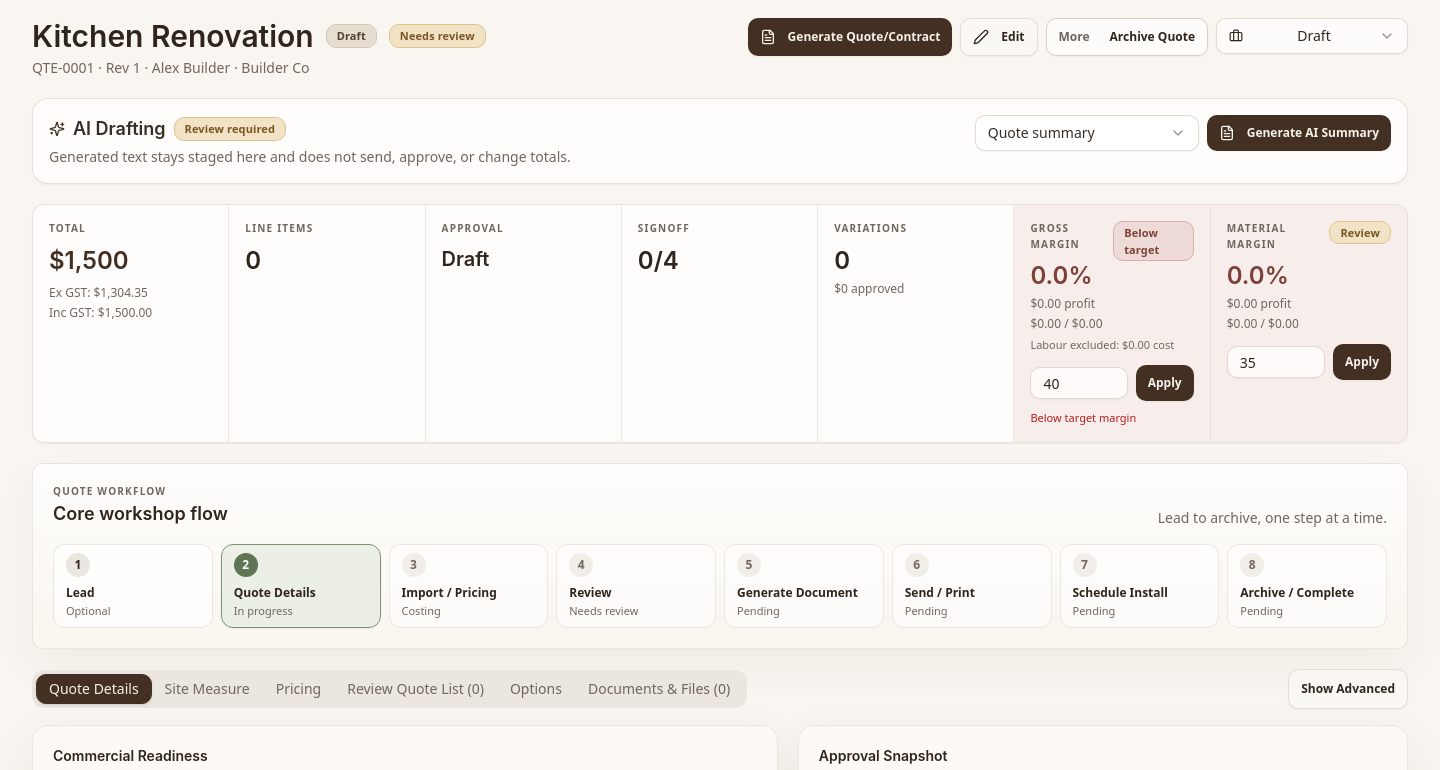
QuoteDetail › shows the complete guided quote workflow and jumps to the next work area
The image size is (1440, 770).
Expected: the heading "Kitchen Renovation" is shown, [32,18,314,54]
Expected: the heading "Core workshop flow" is shown, [53,500,228,528]
Click the button with aria-label "add pricing" at (468, 586), box [388,544,548,628]
(page scrolled)
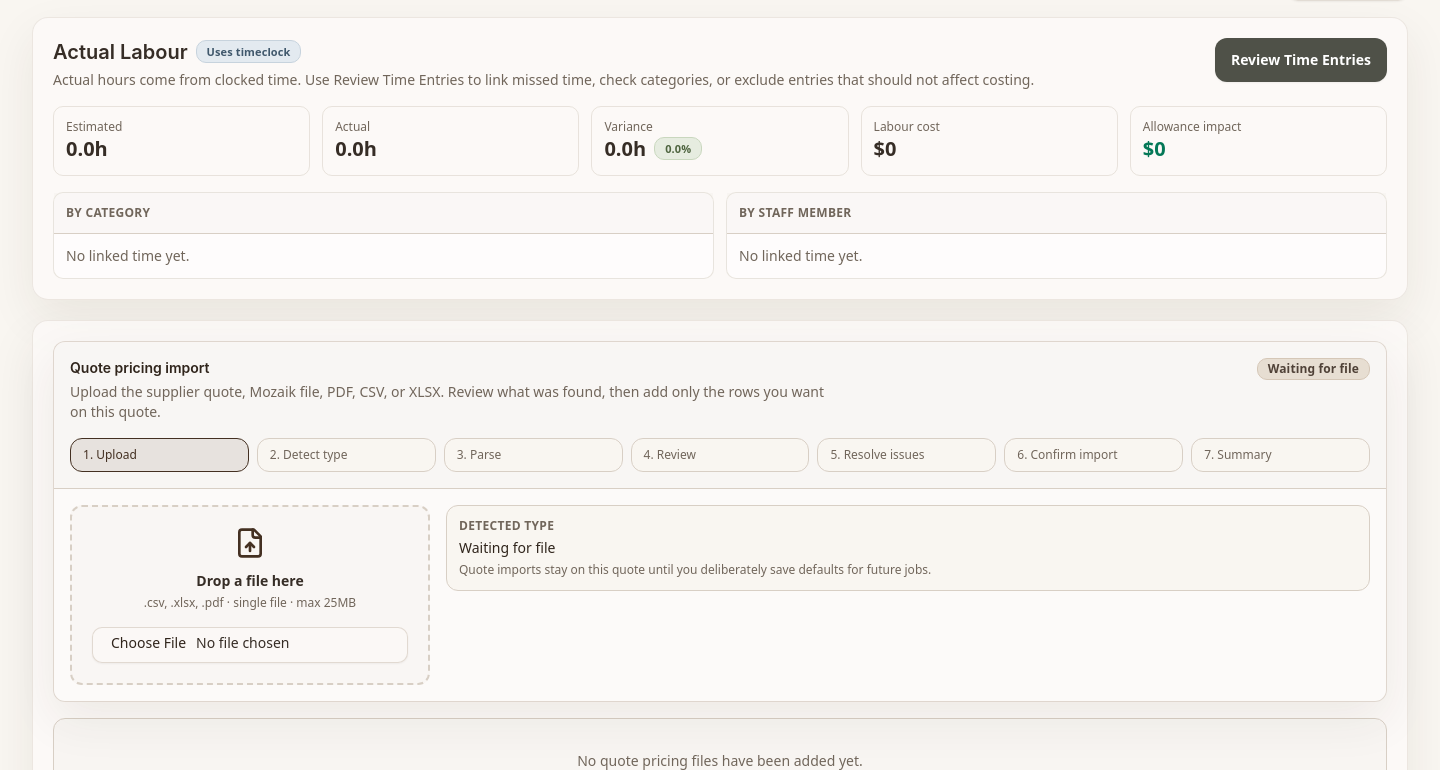
Result: the heading "Quote pricing import" is shown at [70,358,210,378]
